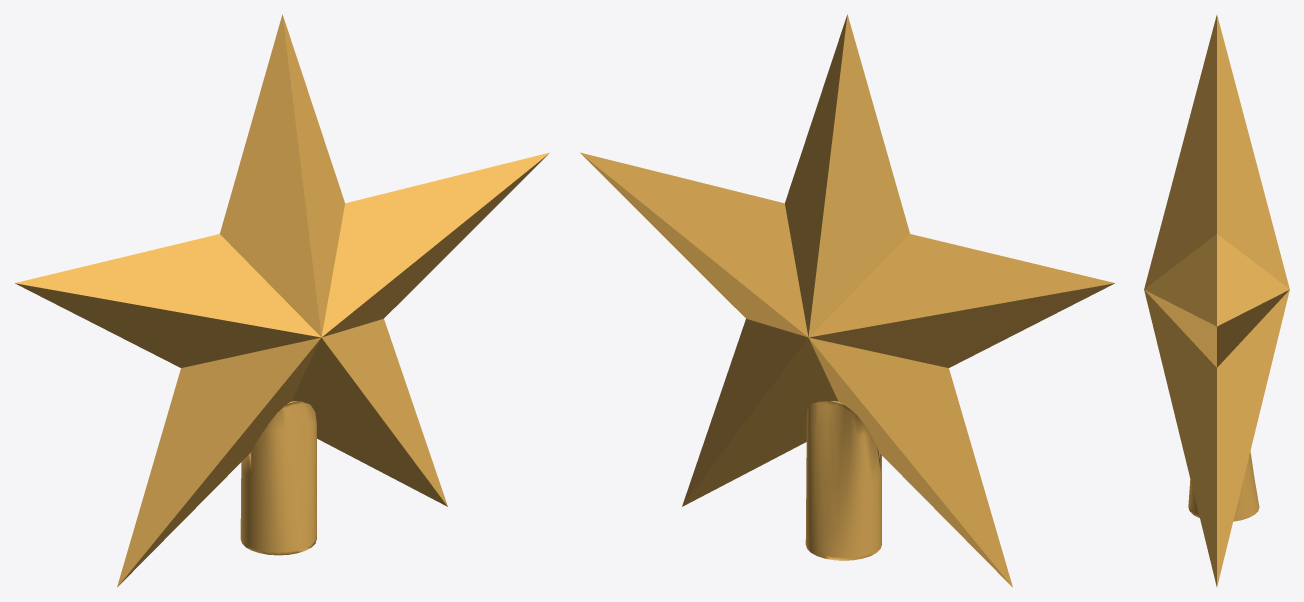
Rendered from Christmas Star.fbx.
3 views of the same model, side by side, from view 1: azimuth 30°, elevation 25°; view 2: azimuth 150°, elevation 25°; view 3: azimuth 270°, elevation 25° (orthographic). The views are drawn at different scales.
Parts seen in each view (by area): view 1: Cylinder; view 2: Cylinder; view 3: Cylinder.
Boxes of the visible parts, x1,y1,x2,y2 form: Cylinder: [15, 14, 549, 587]; Cylinder: [580, 14, 1114, 587]; Cylinder: [1144, 15, 1289, 586].
Bounding box in the file's own units: 73.17 × 69.59 × 18.46.
